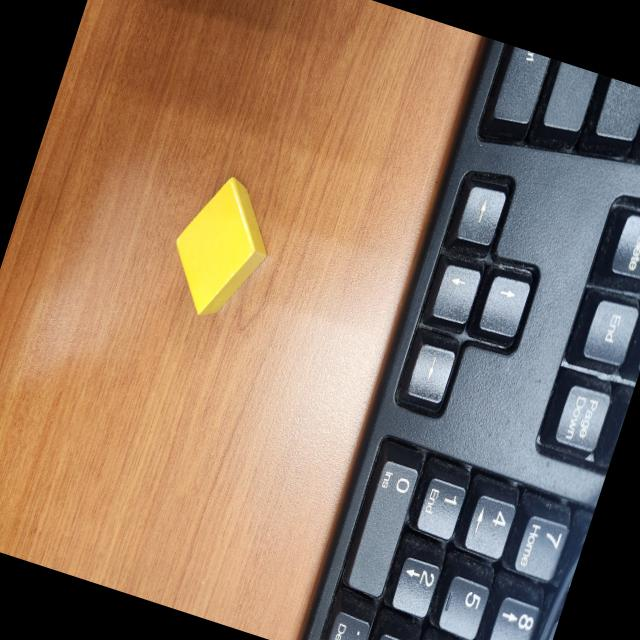yellow: (176, 178, 266, 316)
